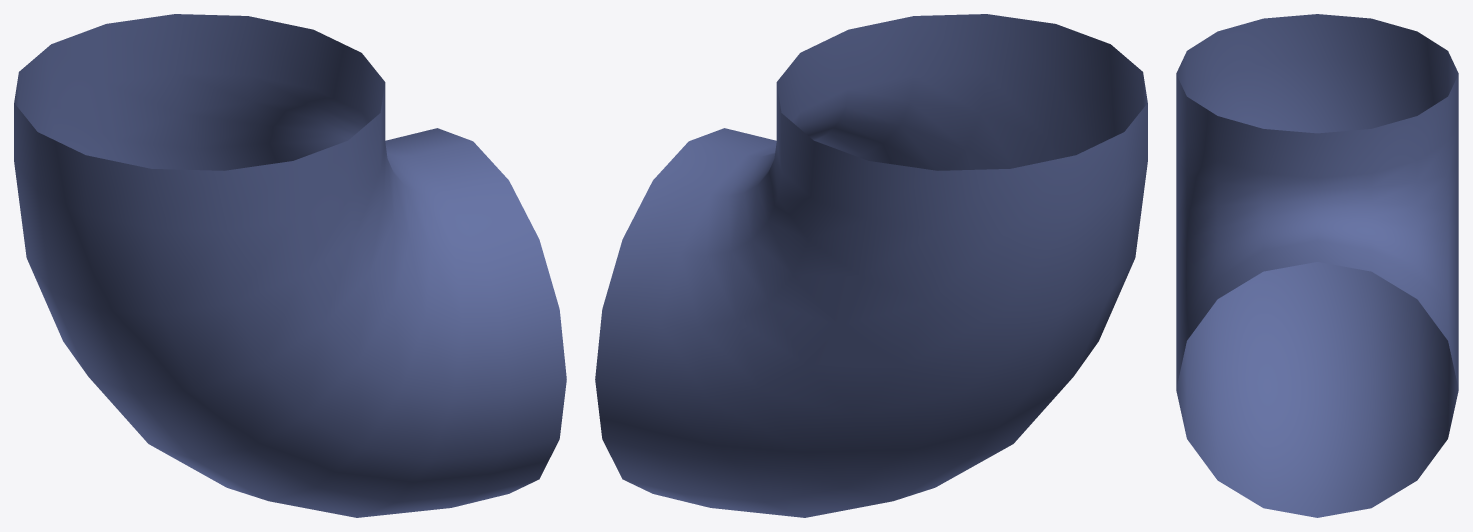
The model's file is BlueMetalDecorationSmallPipeElbow1.fbx.
3 views of the same model, side by side, from view 1: azimuth 30°, elevation 25°; view 2: azimuth 150°, elevation 25°; view 3: azimuth 270°, elevation 25° (orthographic). The views are drawn at different scales.
Visible parts, largest first — view 1: BlueMetalDecorationSmallPipeElbow2; view 2: BlueMetalDecorationSmallPipeElbow2; view 3: BlueMetalDecorationSmallPipeElbow2.
Boxes of the visible parts, x1,y1,x2,y2 form: BlueMetalDecorationSmallPipeElbow2: [14, 14, 566, 517]; BlueMetalDecorationSmallPipeElbow2: [595, 14, 1147, 517]; BlueMetalDecorationSmallPipeElbow2: [1176, 14, 1458, 517].
Bounding box in the file's own units: 80.63 × 80.46 × 60.
1 material, 1 textured.
